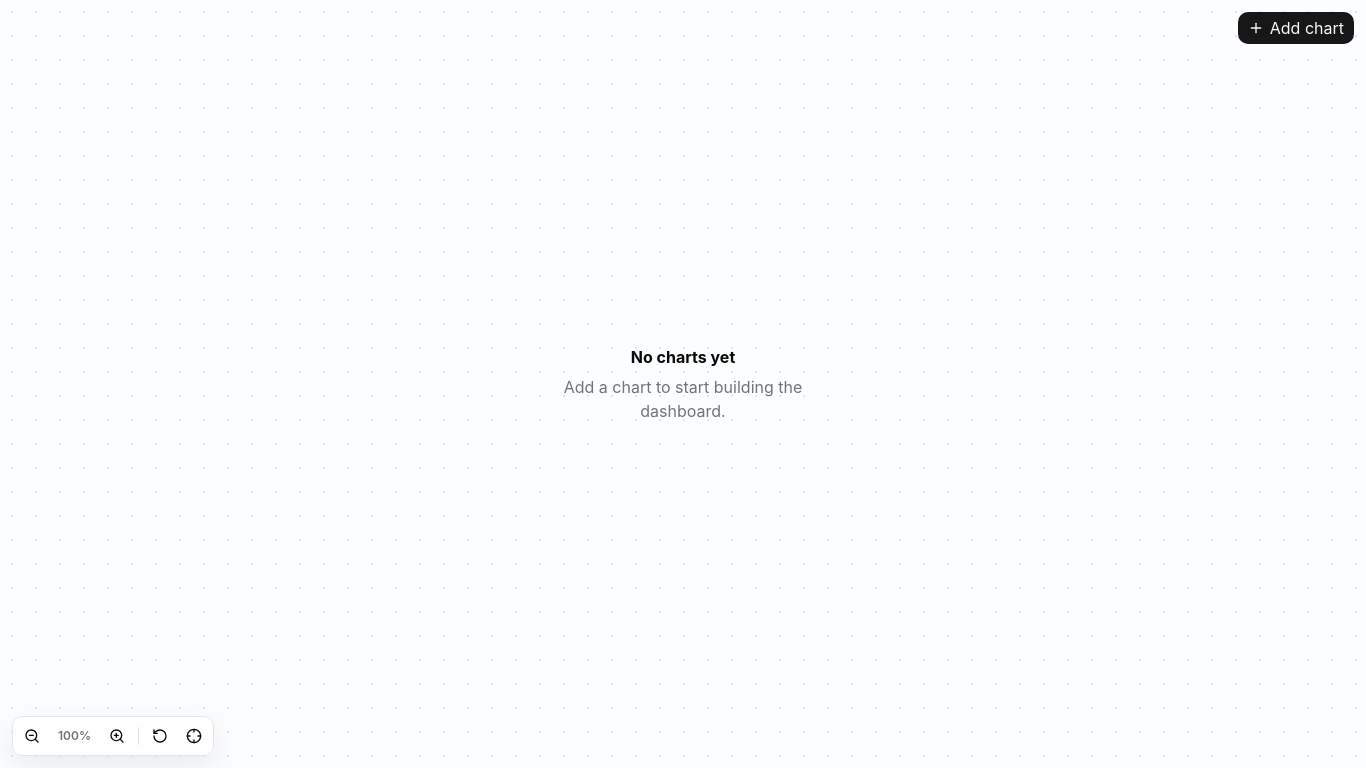
Test: dashboard page › adds a chart and opens the shadcn-backed editor controls
Expected: the text "No charts yet" is shown, [631,347,735,367]
Click the button "Add chart". click: (1296, 28)
box: [1238,12,1354,44]
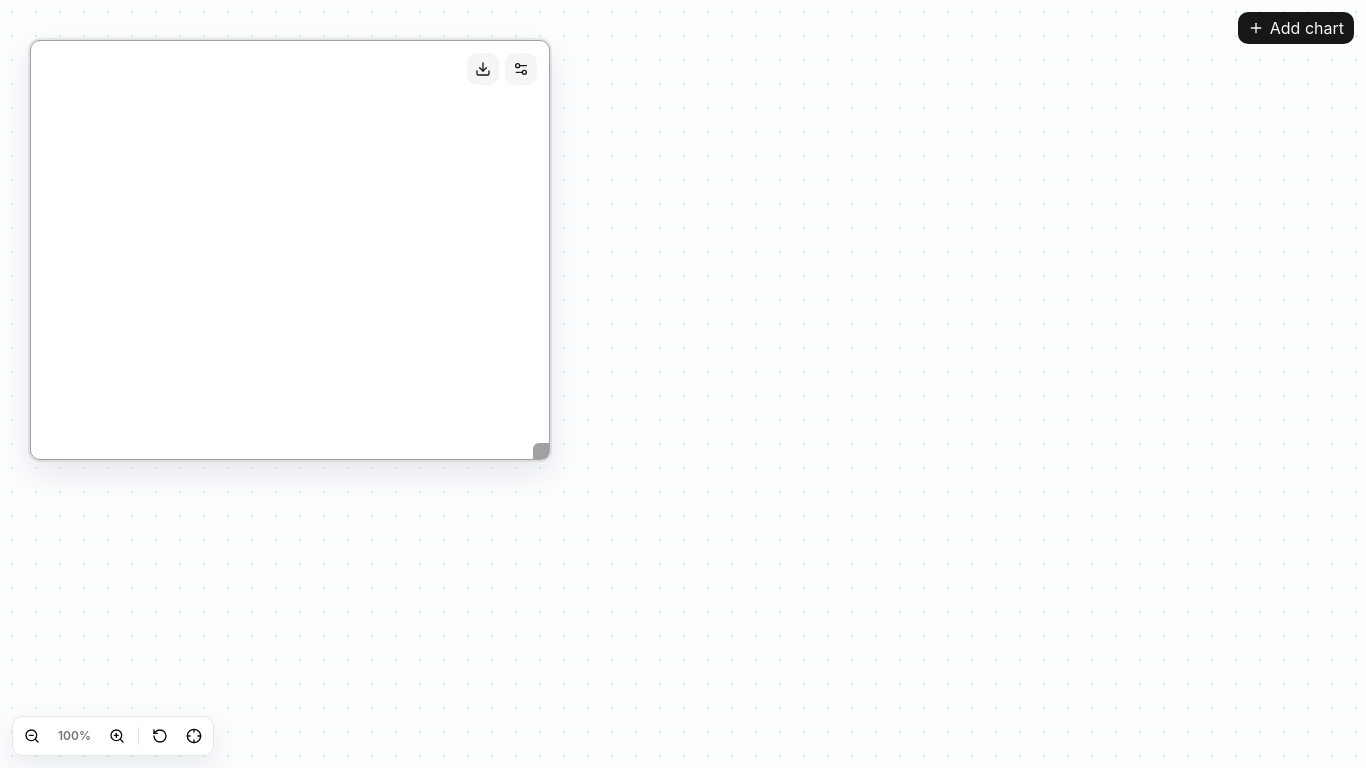
Expected: the button with class "chart-frame" is shown, [30,40,550,460]
